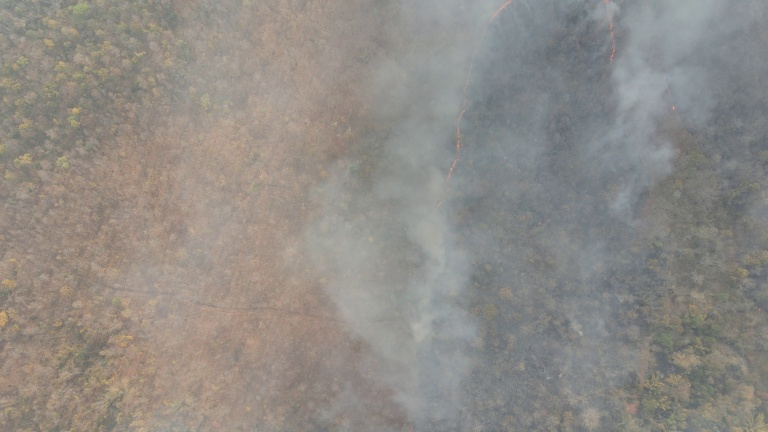fire: (402, 88, 479, 224), (464, 1, 522, 78), (597, 1, 621, 74), (668, 97, 680, 119)
smoke: (320, 154, 484, 421), (602, 1, 740, 218)
